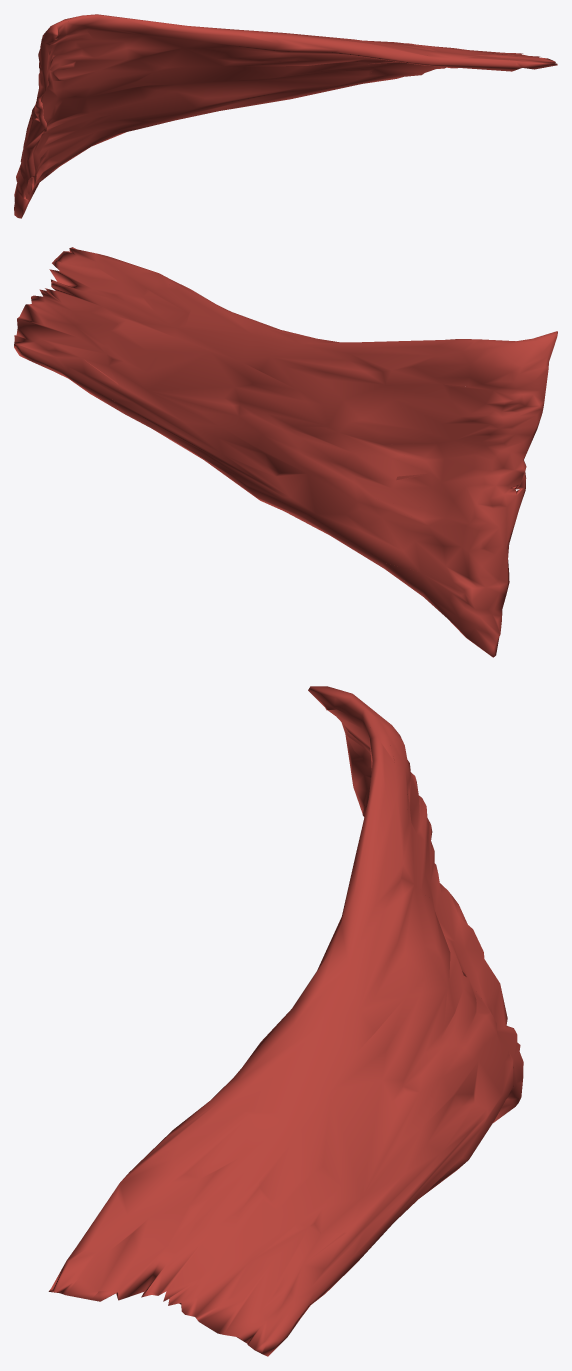
File: musculos-transverse-part-of-trapezius-muscle-l.glb
3 renders of one model, top to bottom at view 1: azimuth 30°, elevation 25°; view 2: azimuth 150°, elevation 25°; view 3: azimuth 270°, elevation 25°, orthographic. The views are drawn at different scales.
Visible parts, largest first — view 1: Transverse part of trapezius muscle.l; view 2: Transverse part of trapezius muscle.l; view 3: Transverse part of trapezius muscle.l.
Part boxes in pixels (<box>): Transverse part of trapezius muscle.l: <box>14,14,557,218</box>; Transverse part of trapezius muscle.l: <box>14,247,557,657</box>; Transverse part of trapezius muscle.l: <box>48,686,523,1356</box>.
Bounding box in the file's own units: 0.1723 × 0.081 × 0.0801.
